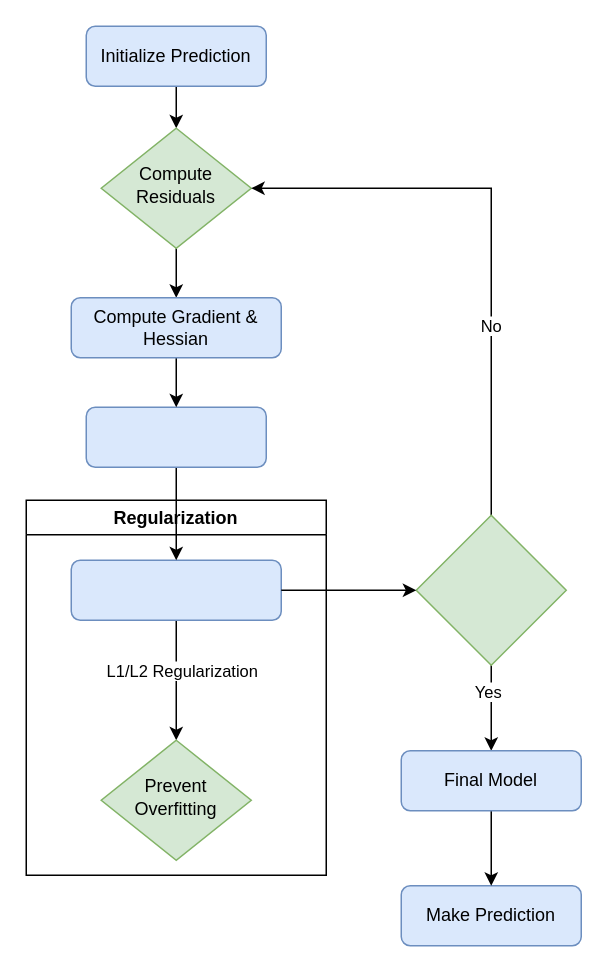
This 608x972 diagram has some shape labels left out. Here are the shapes that lost their labels. From the top down, the centre of each, then its label:
the point at 175,436: Build Decision Tree
the point at 175,589: Optimize Tree Weights
the point at 490,589: Reach Stop Criteria?
